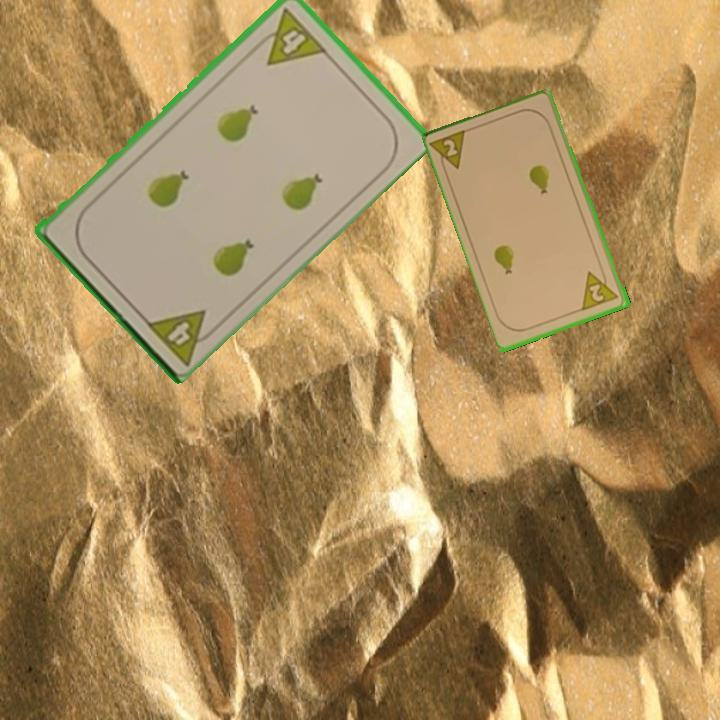2p: (428, 126, 471, 177), (579, 265, 623, 313)
4p: (141, 305, 223, 367), (250, 3, 328, 68)
